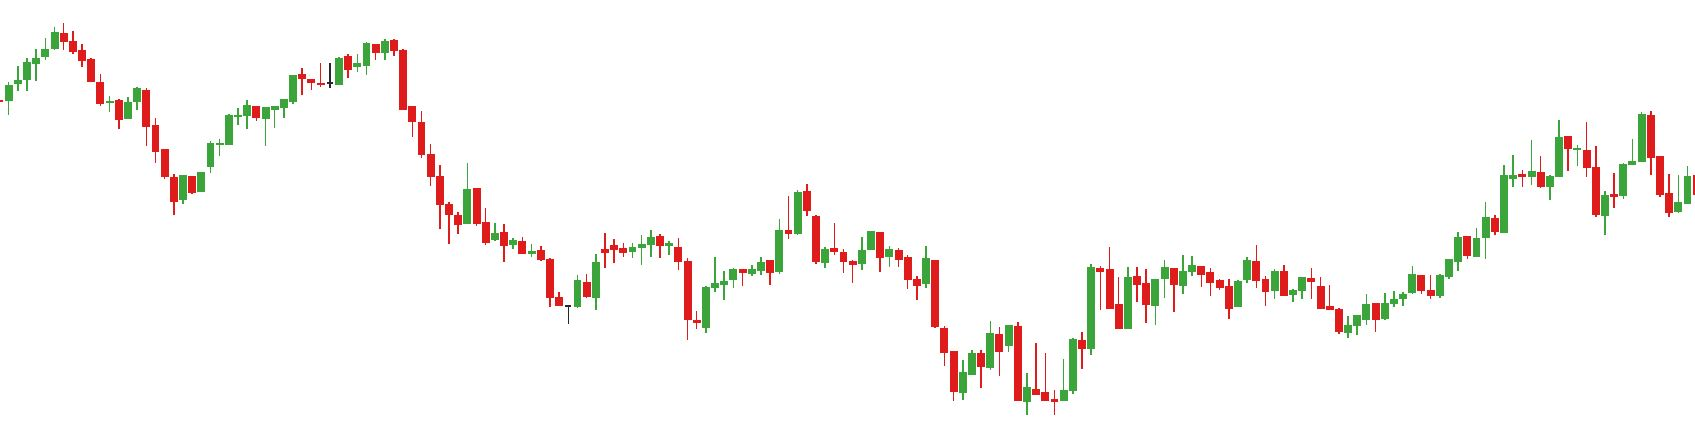buy: (563, 255, 711, 341), (949, 322, 1032, 424)
sell: (1581, 105, 1655, 191)
